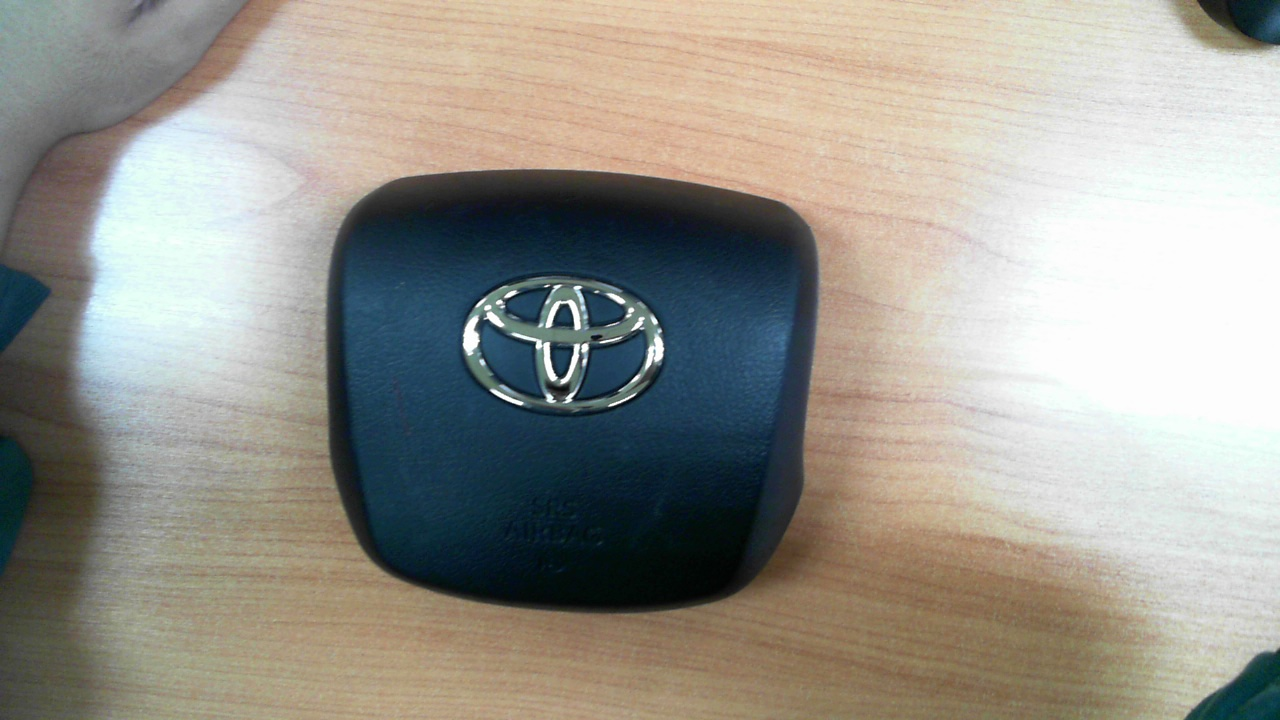Airbag: (325, 168, 820, 615)
Toyota: (462, 275, 666, 414)
